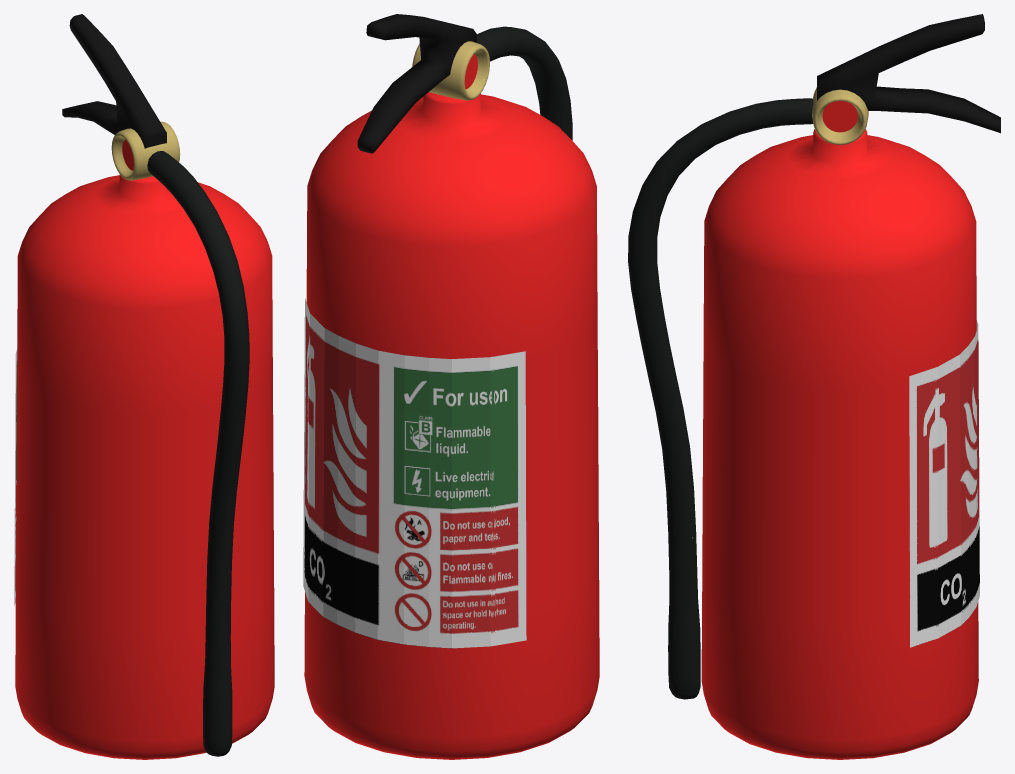
The model's file is FireEx-2.dae.
3 views of the same model, side by side, from view 1: azimuth 30°, elevation 25°; view 2: azimuth 150°, elevation 25°; view 3: azimuth 270°, elevation 25° (orthographic). The views are drawn at different scales.
Parts seen in each view (by area): view 1: FireExtinguiser; view 2: FireExtinguiser; view 3: FireExtinguiser.
Part boxes in pixels (box(x1,y1,x2,y2)): FireExtinguiser: box(14, 14, 274, 759); FireExtinguiser: box(303, 14, 599, 759); FireExtinguiser: box(628, 14, 1000, 759).
Bounding box in the file's own units: 1.54 × 2.07 × 4.23.
Materials: 2 (2 with a texture image).
